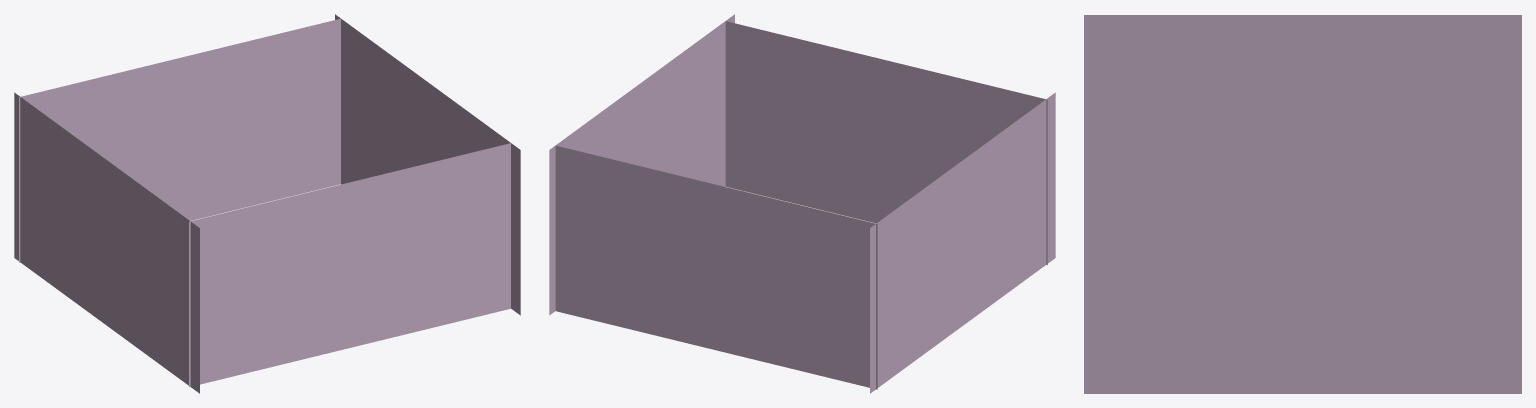
Rendered from door.glb.
3 views of the same model, side by side, from view 1: azimuth 30°, elevation 25°; view 2: azimuth 150°, elevation 25°; view 3: azimuth 270°, elevation 25° (orthographic). The views are drawn at different scales.
Visible parts, largest first — view 1: Plane, Plane.001, Plane.003, Plane.002; view 2: Plane.001, Plane, Plane.003, Plane.002; view 3: Plane.002, Plane.003.
Boxes of the visible parts, x1,y1,x2,y2 form: Plane: (189,143,510,387); Plane.001: (19,18,340,262); Plane.003: (14,92,199,393); Plane.002: (335,14,520,315); Plane.001: (555,145,877,389); Plane: (725,21,1047,265); Plane.003: (870,92,1055,393); Plane.002: (549,14,734,315); Plane.002: (1084,199,1521,393); Plane.003: (1084,15,1521,198).
Size of the model in its own units: 29.47 by 14.47 by 29.46.
